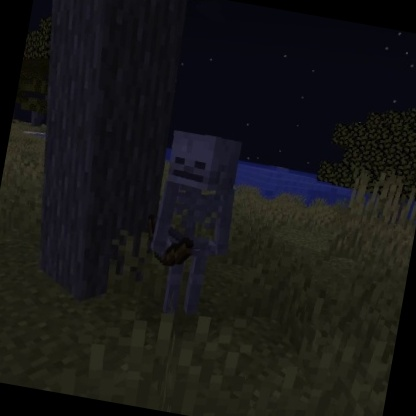skeleton: (129, 121, 253, 322)
